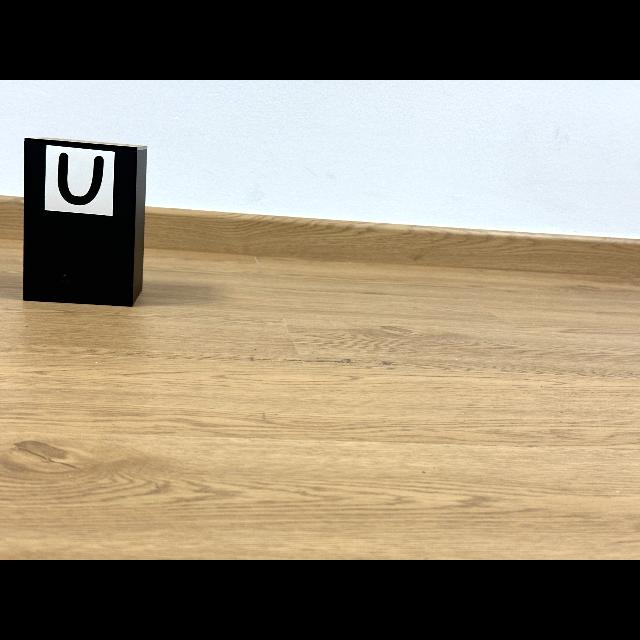U: (58, 152, 104, 205)
